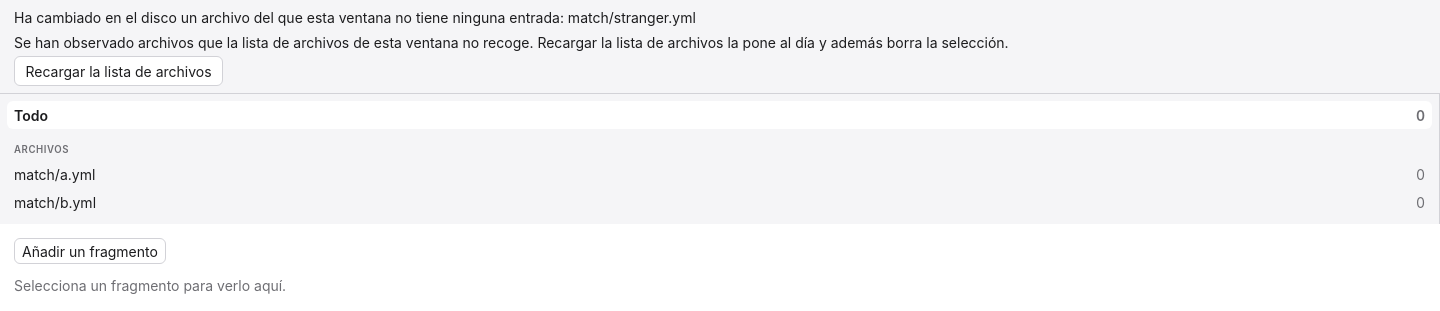
it: the workspace banners and their two controls, in es › draws a path drift and a wanted membership reload, and reloads on the press
This screenshot has width=1440, height=311.
Click the button "Recargar la lista de archivos". click: (119, 71)
box: [14, 56, 223, 86]
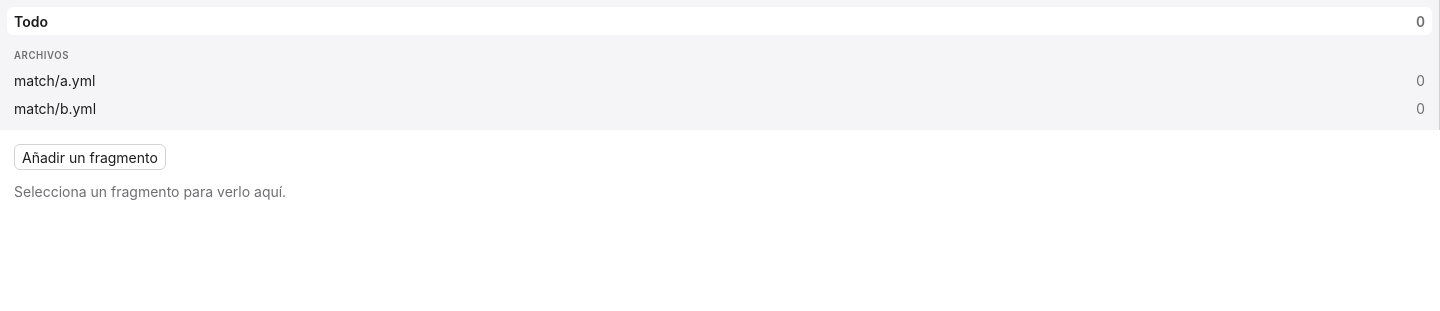
Expected: the text "Se han observado archivos que la lista de archivos de esta ventana no recoge. Recargar la lista de archivos la pone al día y además borra la selección." is gone
